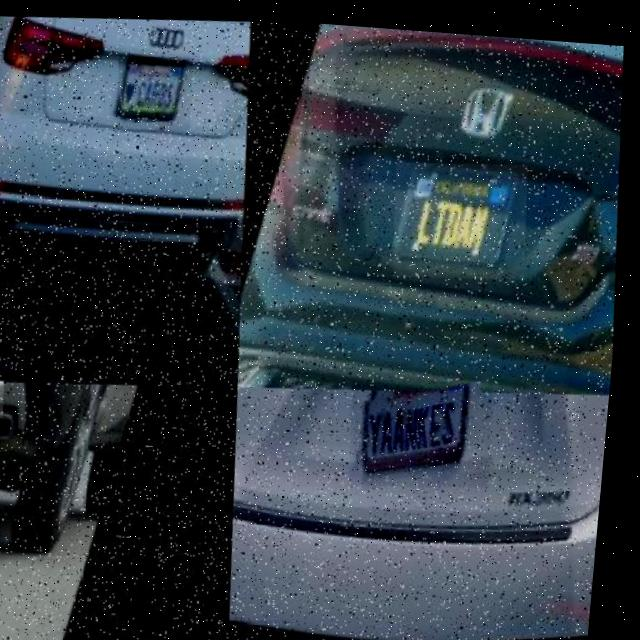LicensePlate: (391, 149, 536, 278), (353, 371, 505, 487), (115, 50, 197, 134), (0, 378, 13, 419)
